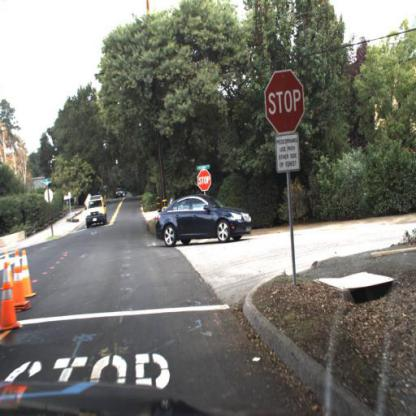car: (149, 186, 260, 253), (83, 198, 108, 229), (115, 186, 124, 199)
